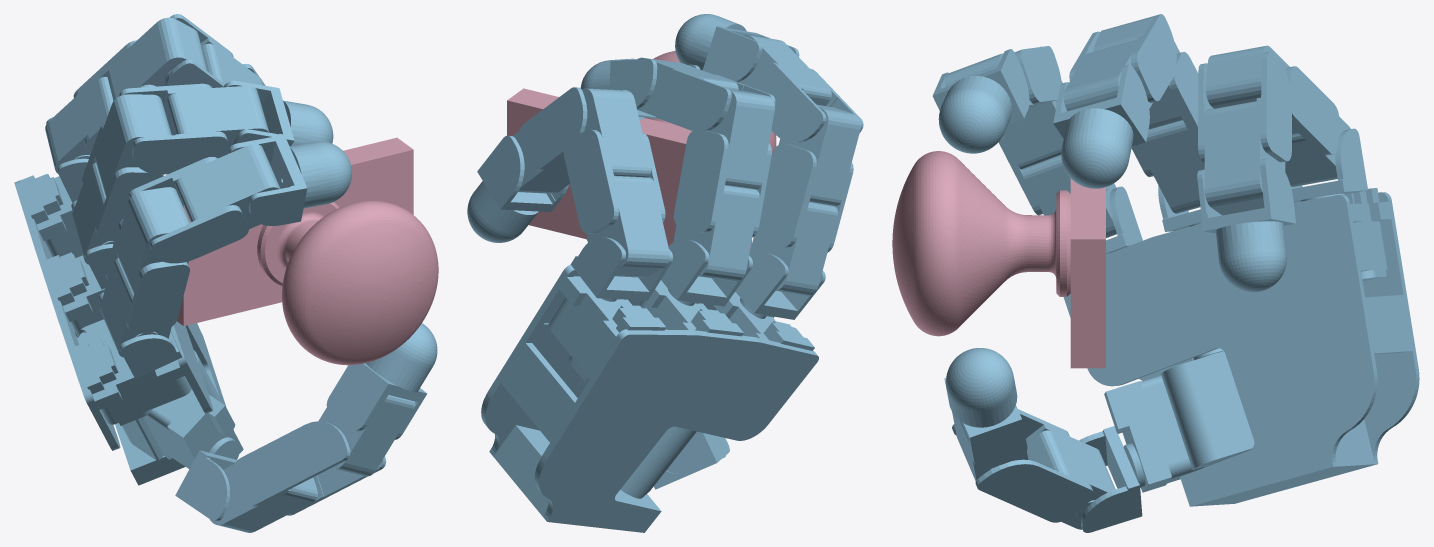
3 renders of one model, left to right at view 1: azimuth 30°, elevation 25°; view 2: azimuth 150°, elevation 25°; view 3: azimuth 270°, elevation 25°, orthographic. The views are drawn at different scales.
Visible parts, largest first — view 1: world; view 2: world; view 3: world.
Boxes of the visible parts, x1=… form: world: x1=14, y1=14, x2=438, y2=532; world: x1=467, y1=14, x2=863, y2=532; world: x1=892, y1=14, x2=1419, y2=532.
Size of the model in its own units: 0.1363 by 0.188 by 0.185.
